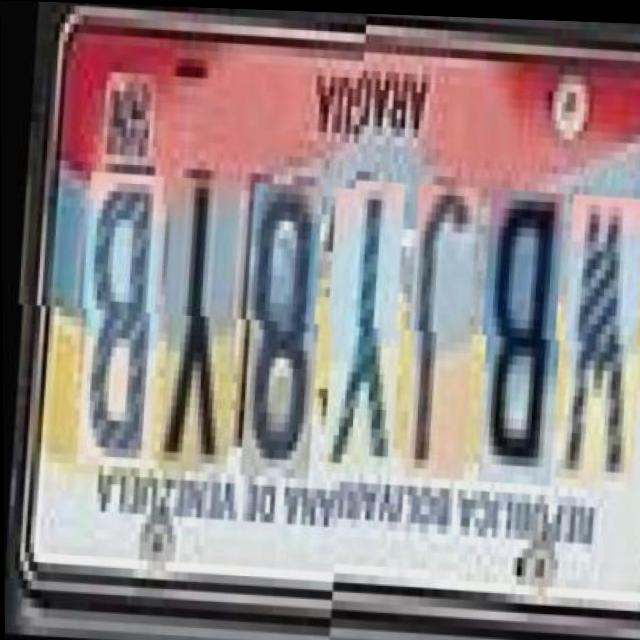8: (231, 173, 318, 470)
b: (67, 165, 159, 462), (468, 185, 558, 482)
j: (394, 182, 472, 478)
w: (550, 190, 640, 487)
y: (312, 178, 399, 475), (149, 169, 236, 466)
